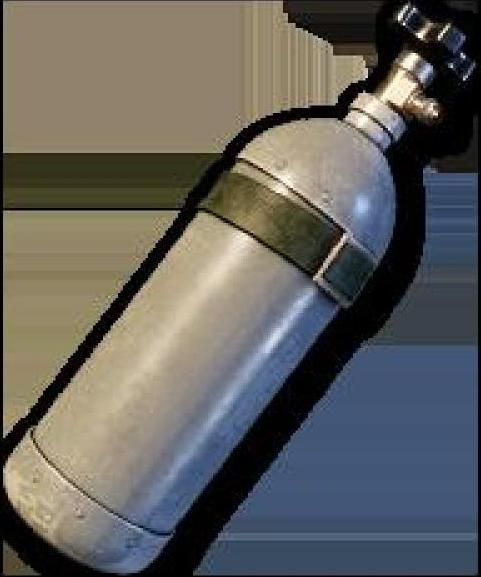cylinder: (1, 0, 481, 577)
